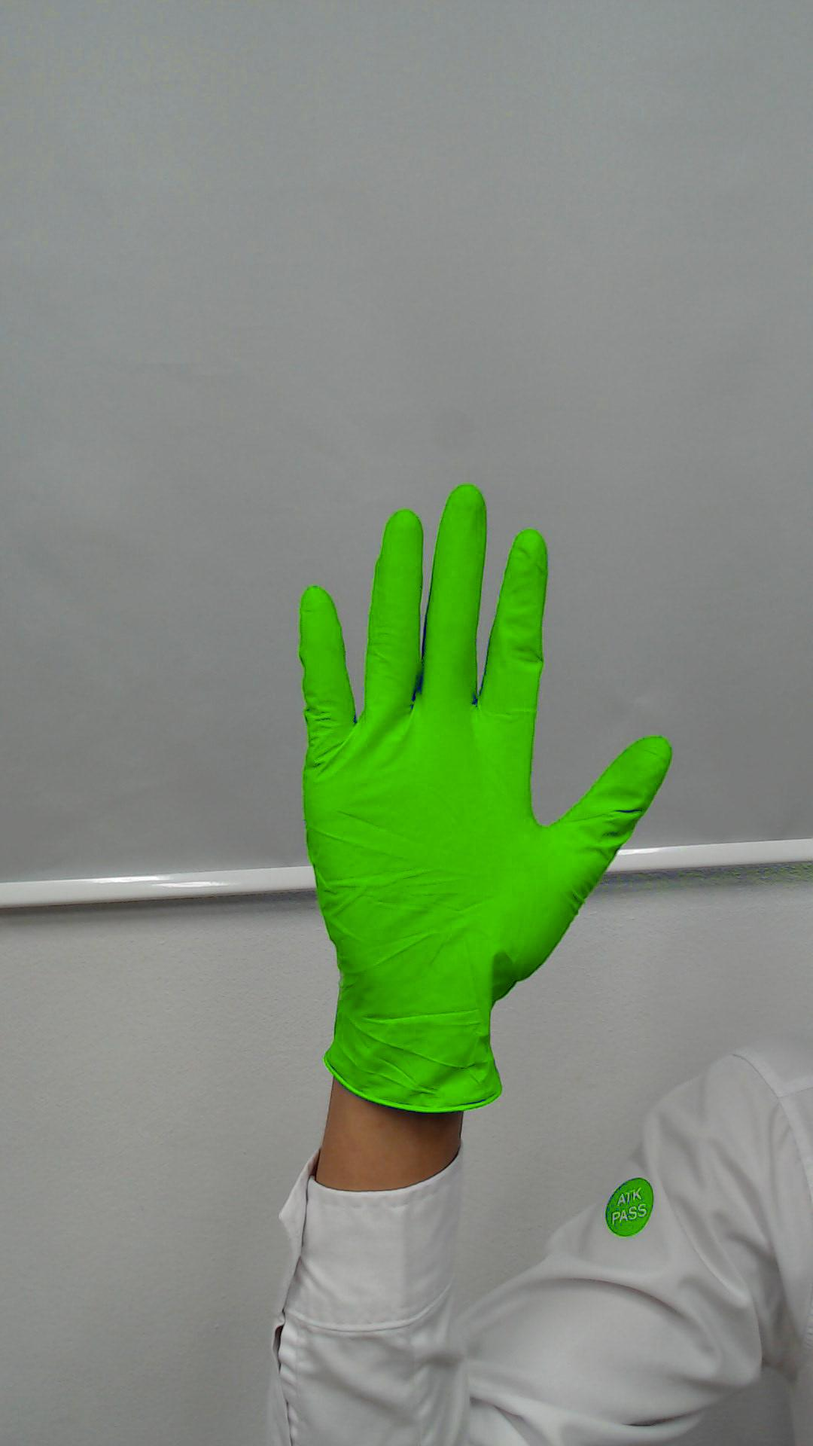gloves: (291, 463, 682, 953)
